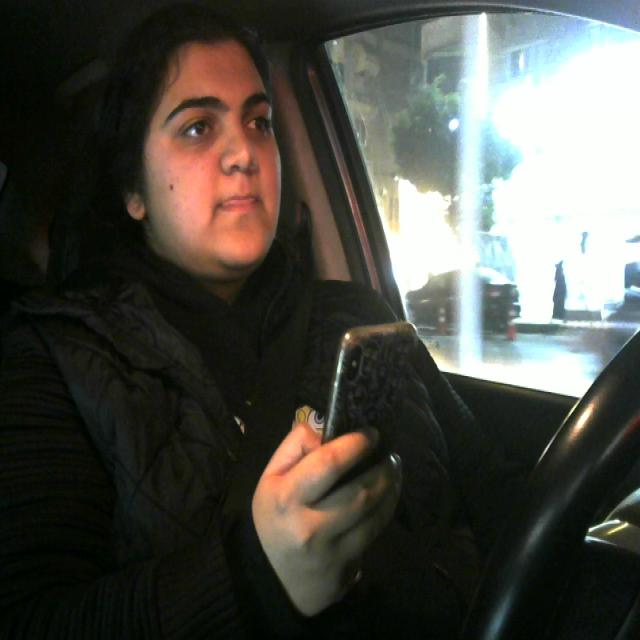mobile use: (323, 314, 421, 532)
